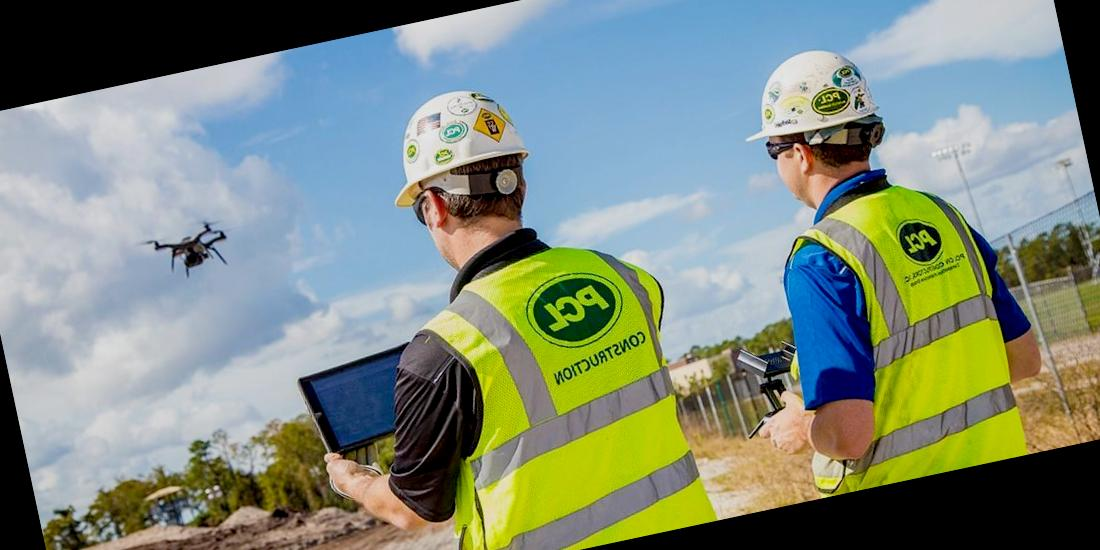helmet: (376, 80, 542, 214), (724, 39, 880, 152)
person: (307, 53, 713, 550), (717, 13, 1063, 501)
